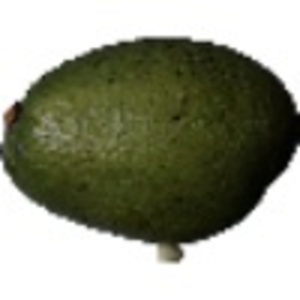abacate: (1, 36, 297, 245)
